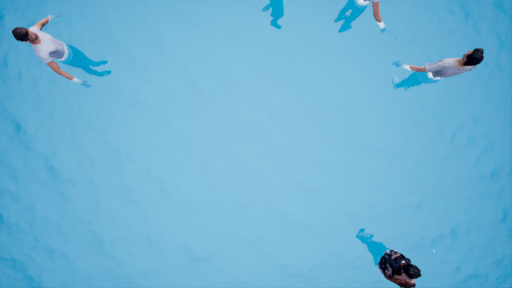person: (11, 18, 123, 96), (387, 50, 491, 93), (352, 226, 427, 284)
